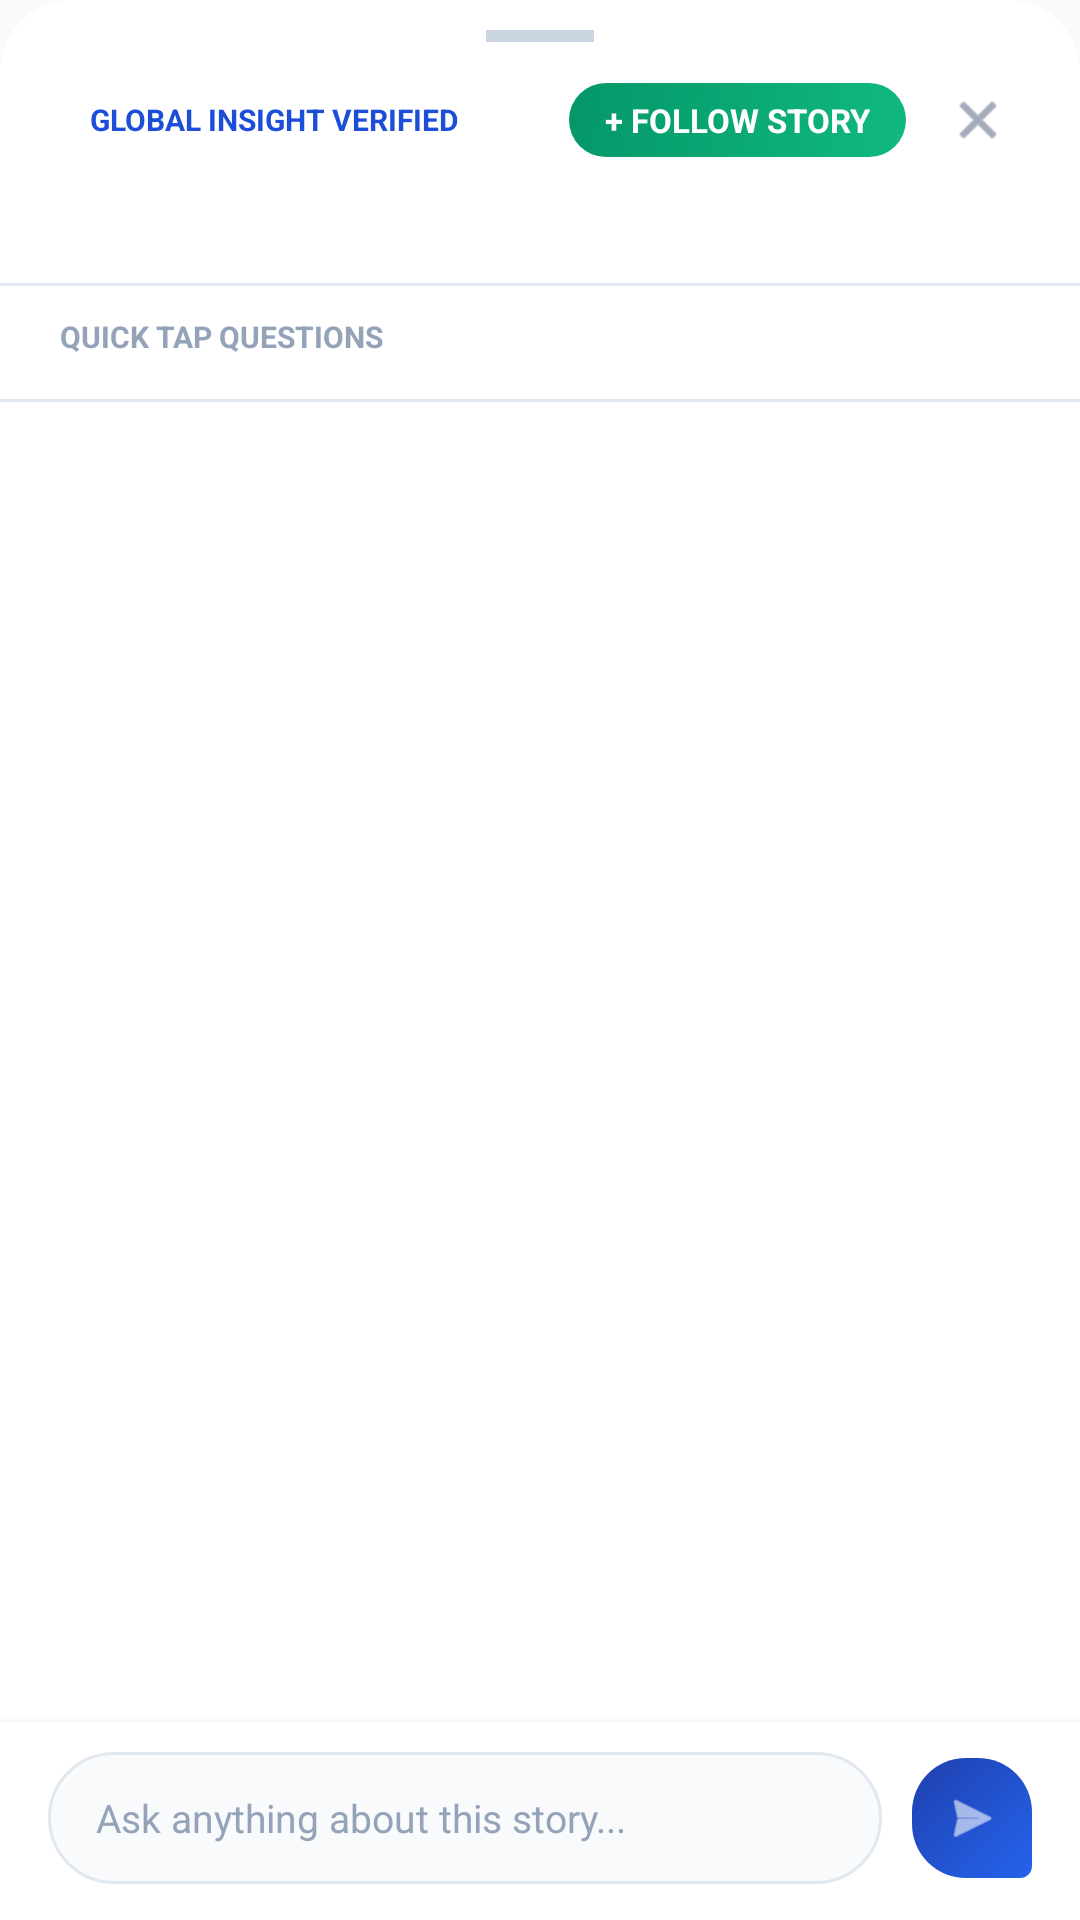

Named icons in this screenshot (1080×1920) and their bounding boxes, (x1, y1, x2, y2):
Close: (959, 101, 997, 139)
Send: (912, 1758, 1032, 1878)
